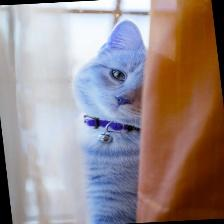kedo: (76, 20, 140, 223)
